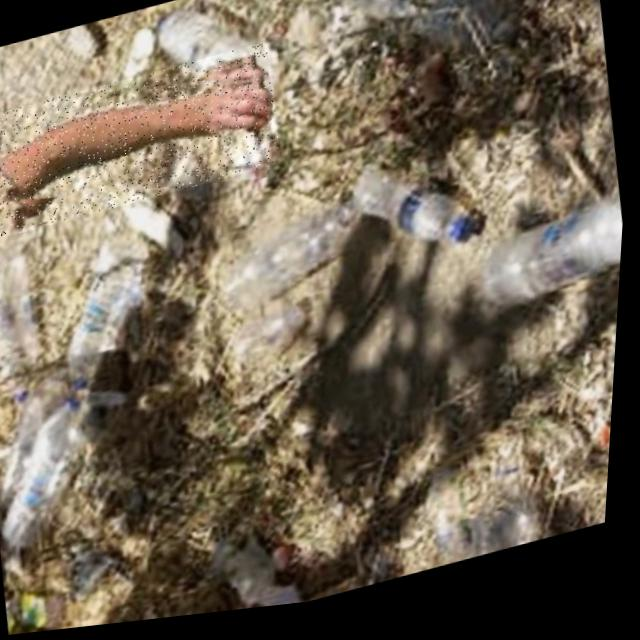Person in Rubble: (0, 43, 289, 238)
